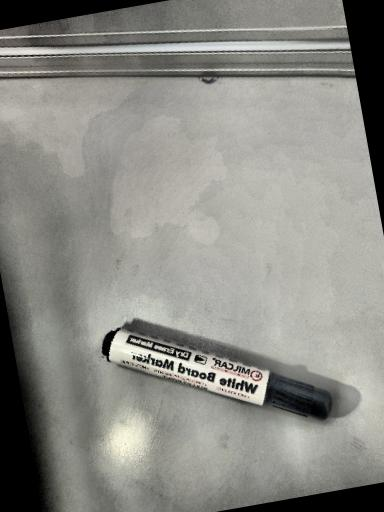marcador negro: (102, 328, 332, 421)
